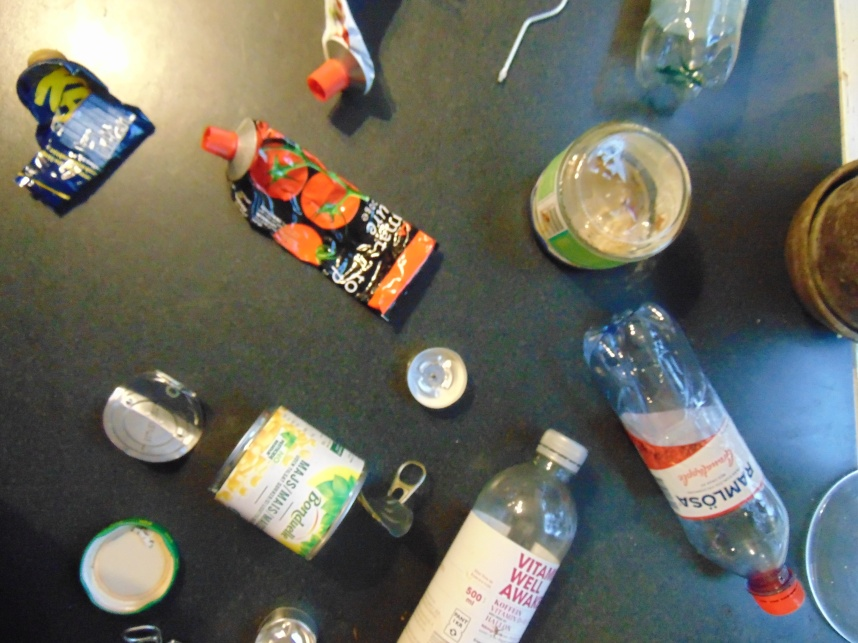glass_bottle: (529, 121, 694, 272), (800, 469, 858, 643)
metal: (226, 118, 436, 314), (16, 59, 155, 215), (79, 517, 181, 614), (101, 370, 205, 462), (313, 1, 393, 103), (494, 1, 571, 88), (359, 452, 426, 539), (404, 345, 471, 414), (251, 606, 321, 643), (120, 624, 173, 643)
metal_can: (213, 403, 366, 559)
plastic_bottle: (580, 299, 804, 615), (394, 426, 588, 643), (634, 1, 749, 95)
